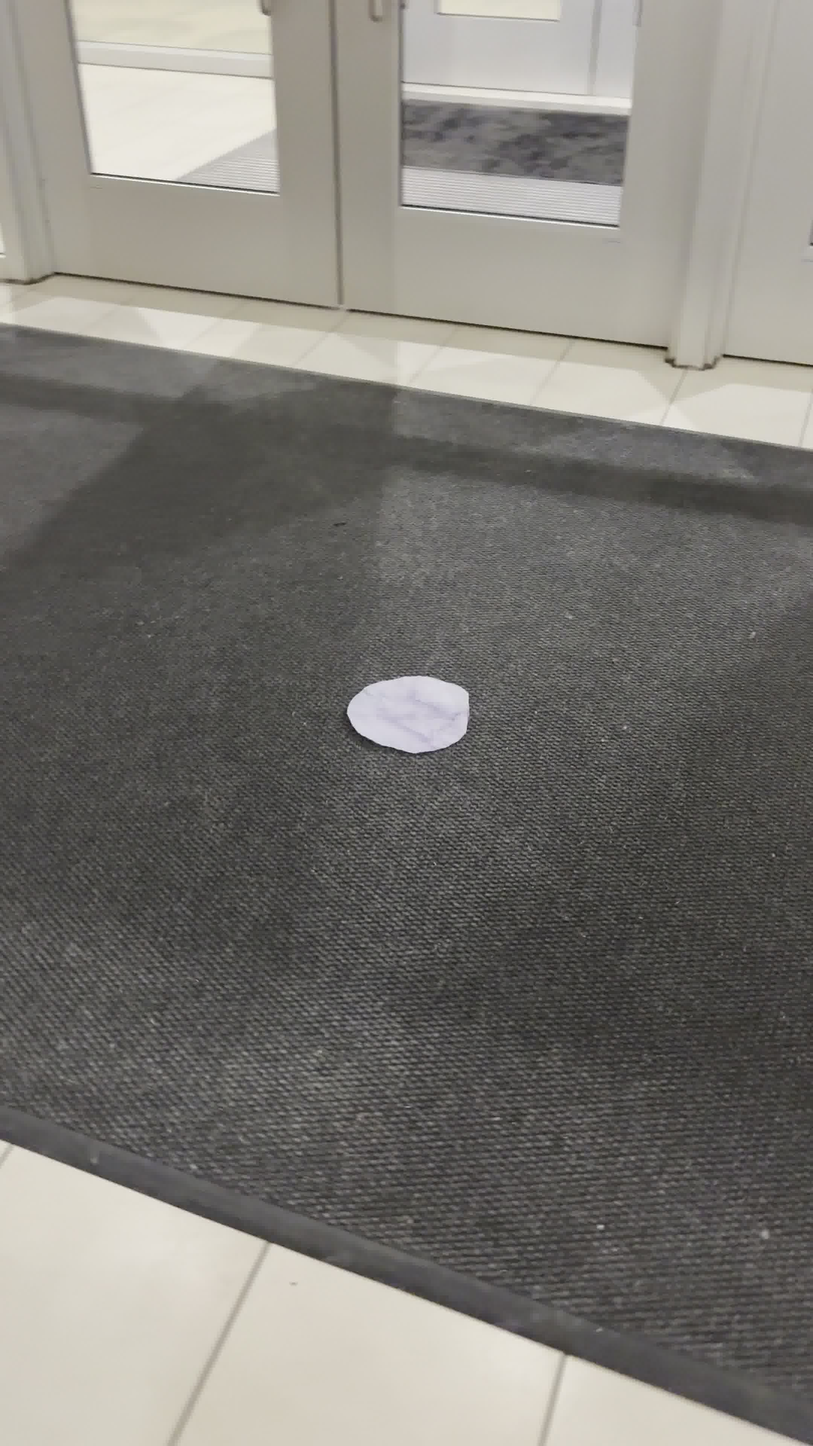Target: (347, 676, 469, 754)
